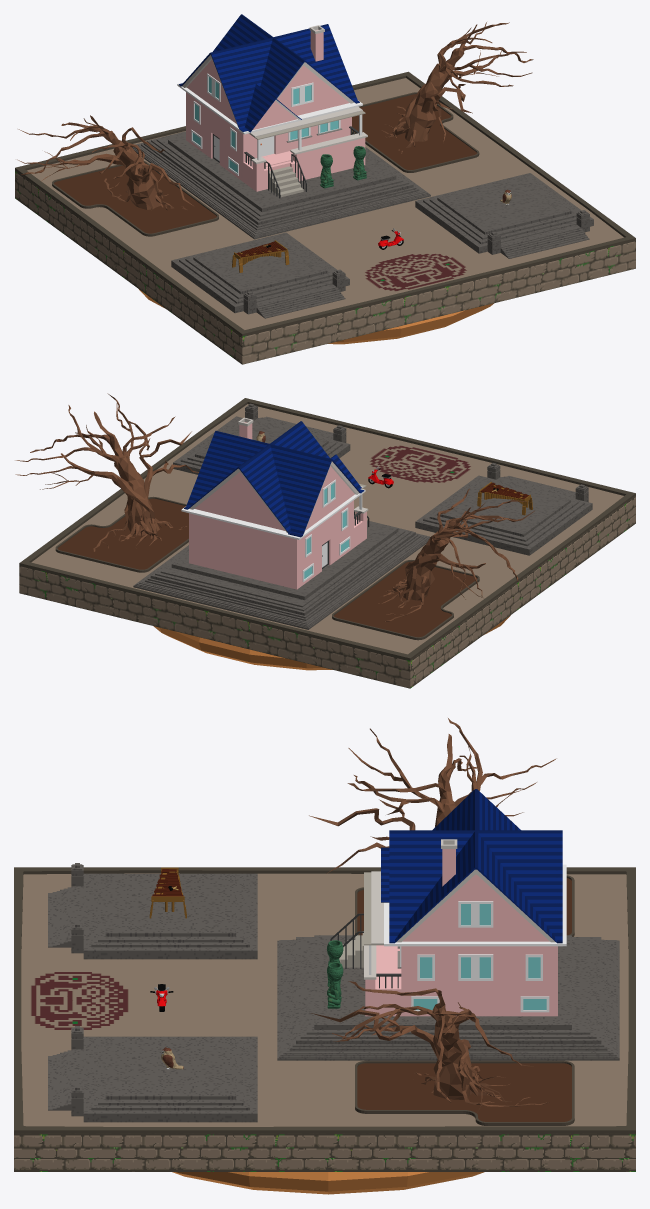
3 renders of one model, top to bottom at view 1: azimuth 30°, elevation 25°; view 2: azimuth 150°, elevation 25°; view 3: azimuth 270°, elevation 25°, orthographic. The views are drawn at different scales.
Visible parts, largest first — view 1: Cube.011, Cube.313, UNDERGROUND_PIZZA, OBJRANDOM_MARIMBA; view 2: Cube.011, Cube.313, UNDERGROUND_PIZZA, OBJRANDOM_MARIMBA; view 3: Cube.011, Cube.313, UNDERGROUND_PIZZA, OBJRANDOM_MARIMBA.
Boxes of the visible parts, x1=… form: Cube.011: x1=15, y1=22, x2=635, y2=364; Cube.313: x1=177, y1=14, x2=367, y2=198; UNDERGROUND_PIZZA: x1=139, y1=289, x2=493, y2=344; OBJRANDOM_MARIMBA: x1=232, y1=240, x2=289, y2=272; Cube.011: x1=15, y1=393, x2=635, y2=688; Cube.313: x1=181, y1=417, x2=369, y2=589; UNDERGROUND_PIZZA: x1=153, y1=615, x2=510, y2=670; OBJRANDOM_MARIMBA: x1=477, y1=482, x2=532, y2=515; Cube.011: x1=14, y1=718, x2=635, y2=1171; Cube.313: x1=330, y1=789, x2=566, y2=1016; UNDERGROUND_PIZZA: x1=172, y1=1172, x2=484, y2=1194; OBJRANDOM_MARIMBA: x1=149, y1=867, x2=186, y2=918.
Size of the model in its own units: 5099 by 1872 by 4000.
41 materials, 5 textured.
